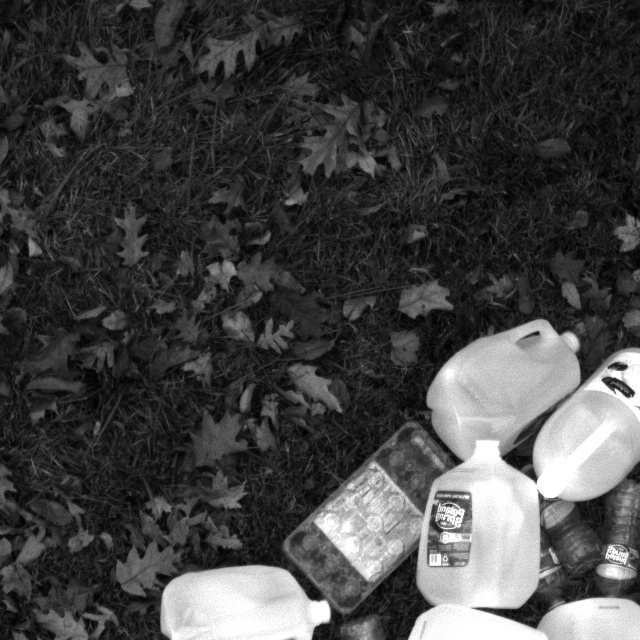bottle: (521, 465, 606, 577), (587, 477, 640, 603), (530, 534, 571, 614)
can: (424, 317, 583, 463), (414, 438, 535, 610), (532, 344, 640, 502), (159, 562, 332, 640)
container: (281, 419, 468, 614)
